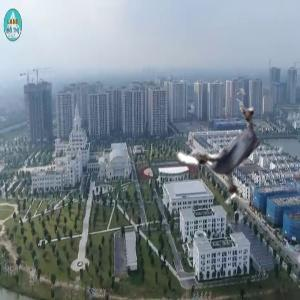drone: (167, 87, 289, 209)
